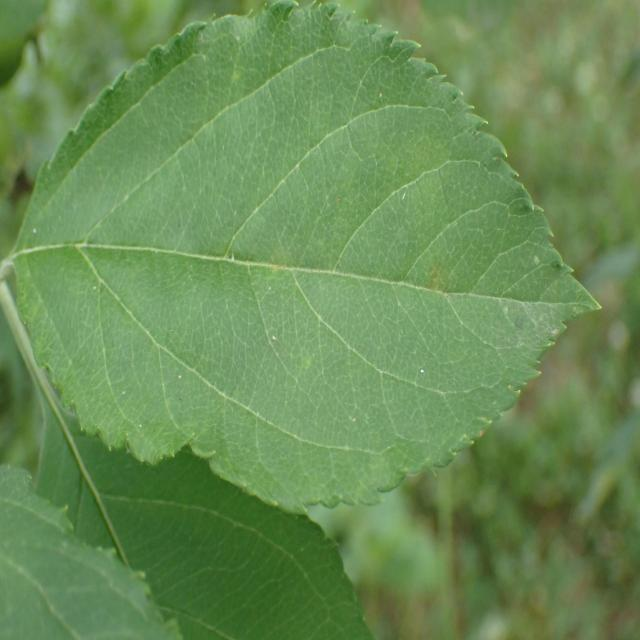scab: (66, 89, 561, 435)
